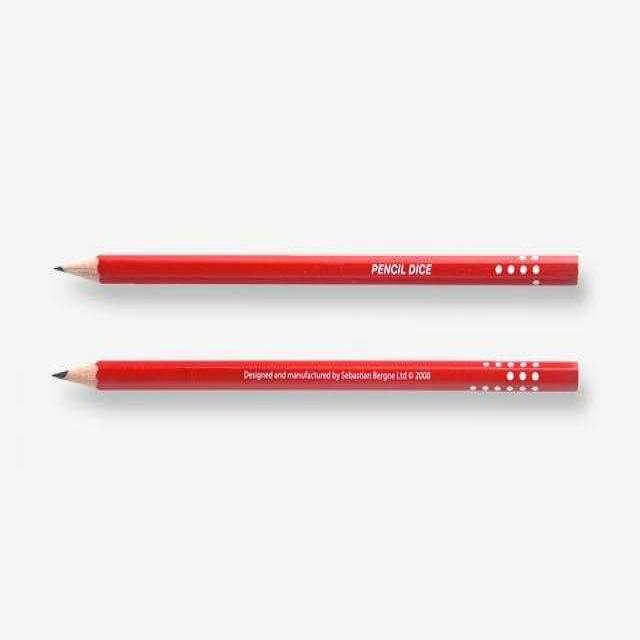pencil: (48, 335, 584, 409), (48, 247, 589, 304)
